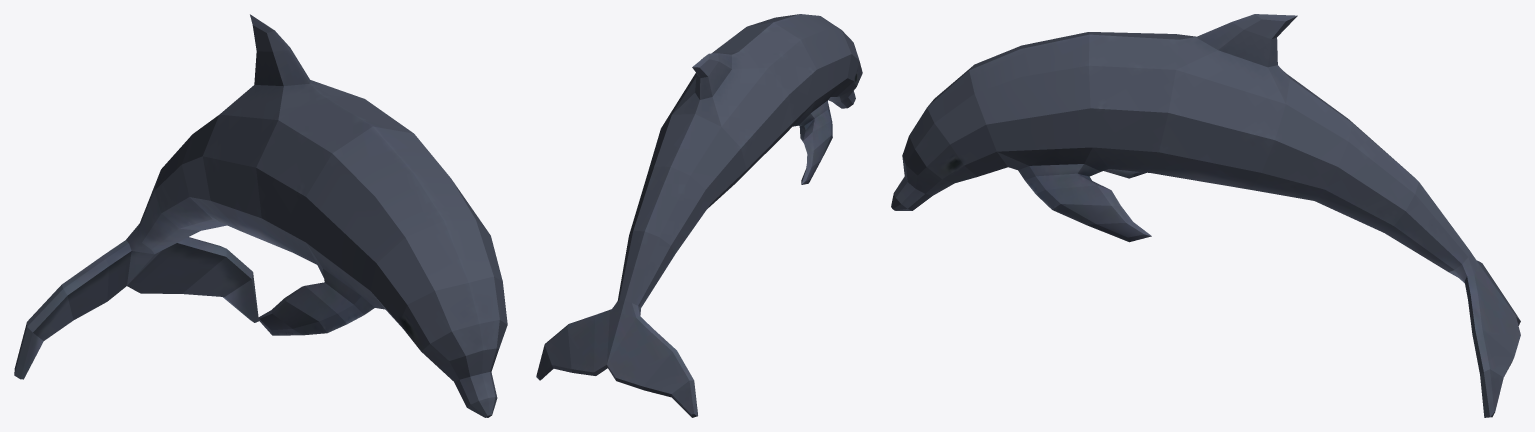
Rendered from animals-dolphin-071.glb.
3 views of the same model, side by side, from view 1: azimuth 30°, elevation 25°; view 2: azimuth 150°, elevation 25°; view 3: azimuth 270°, elevation 25° (orthographic). The views are drawn at different scales.
Visible parts, largest first — view 1: Dolphin_mesh; view 2: Dolphin_mesh; view 3: Dolphin_mesh.
Part boxes in pixels (<box>): Dolphin_mesh: <box>14,14,507,417</box>; Dolphin_mesh: <box>536,14,862,417</box>; Dolphin_mesh: <box>891,14,1520,417</box>.
Size of the model in its own units: 5.63 by 9.25 by 14.84.
Materials: 1 (1 with a texture image).
